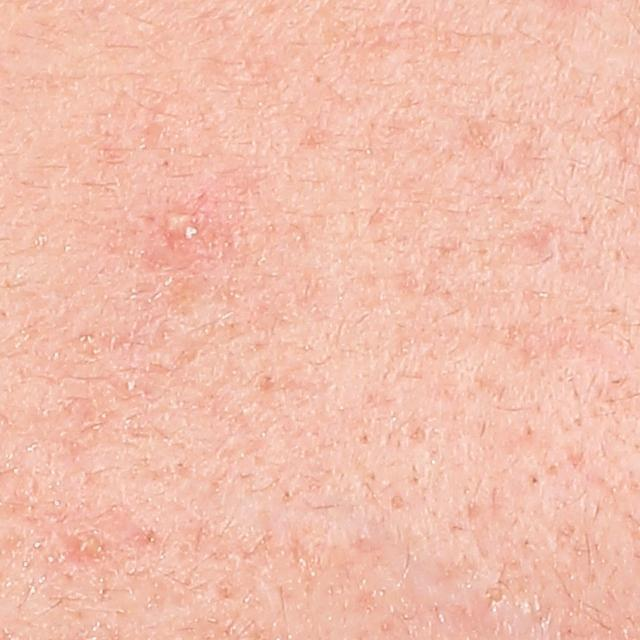comedo: (387, 489, 410, 513)
pustule: (165, 205, 195, 239)
